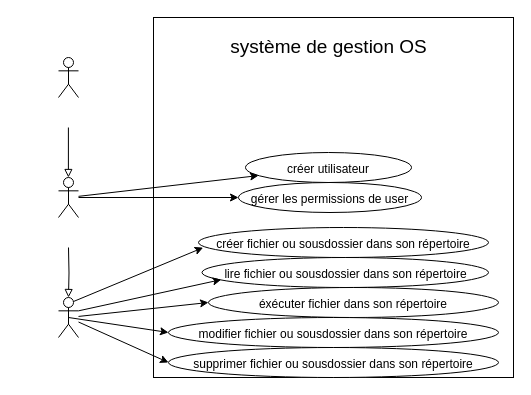
The diagram is 531 pixels wide and 395 high, and some of its shapes have lost their labels. The box of each missing label's shape, as (x1, y1, x2, y2) in pixels:
Admin: (58, 176, 78, 218)
Superadmin: (58, 56, 78, 98)
User: (58, 296, 78, 338)
